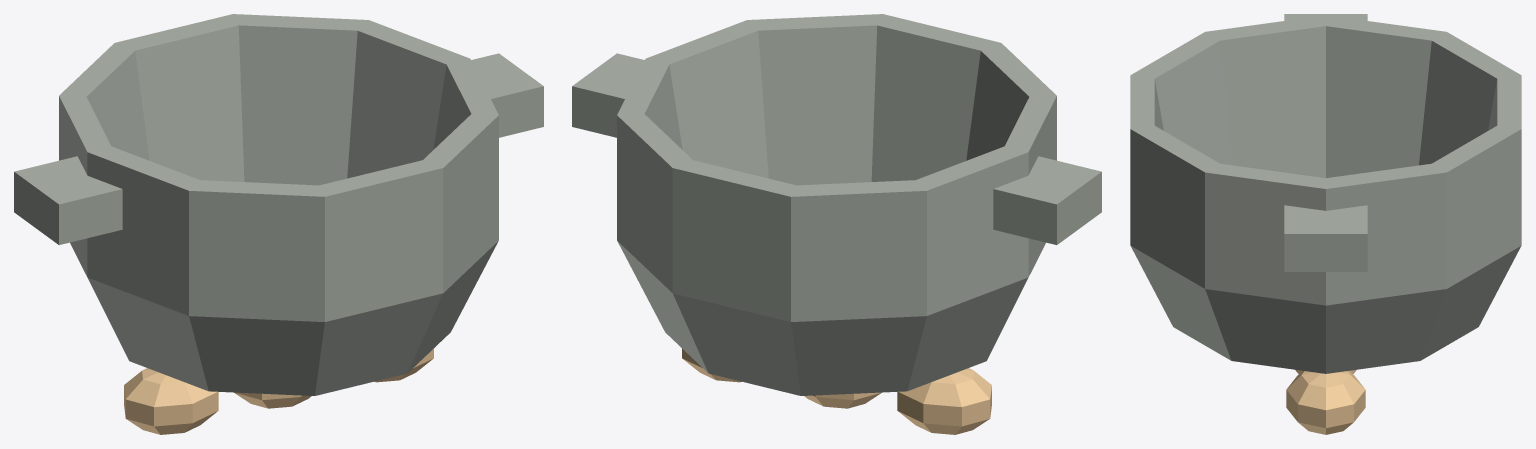
The model's file is crafted-pot-base.glb.
The picture shows the model from 3 angles, left to right: view 1: azimuth 30°, elevation 25°; view 2: azimuth 150°, elevation 25°; view 3: azimuth 270°, elevation 25°; orthographic projection. The views are drawn at different scales.
Visible parts, largest first — view 1: pot, handle, ember-0, handle-1, ember-1; view 2: pot, handle, ember-0, handle-1, ember-1; view 3: pot, handle-1, ember-2.
Part boxes in pixels (x1,y1,x2,y2): pot: [59, 14, 498, 395]; handle: [14, 156, 122, 244]; ember-0: [124, 368, 218, 434]; handle-1: [471, 53, 543, 137]; ember-1: [234, 392, 311, 408]; pot: [617, 14, 1056, 395]; handle: [993, 156, 1101, 244]; ember-0: [897, 368, 991, 434]; handle-1: [572, 53, 644, 137]; ember-1: [804, 392, 881, 408]; pot: [1130, 15, 1521, 373]; handle-1: [1284, 205, 1367, 271]; ember-2: [1286, 371, 1365, 434].
Bounding box in the file's own units: 0.81 × 0.475 × 0.6087.
